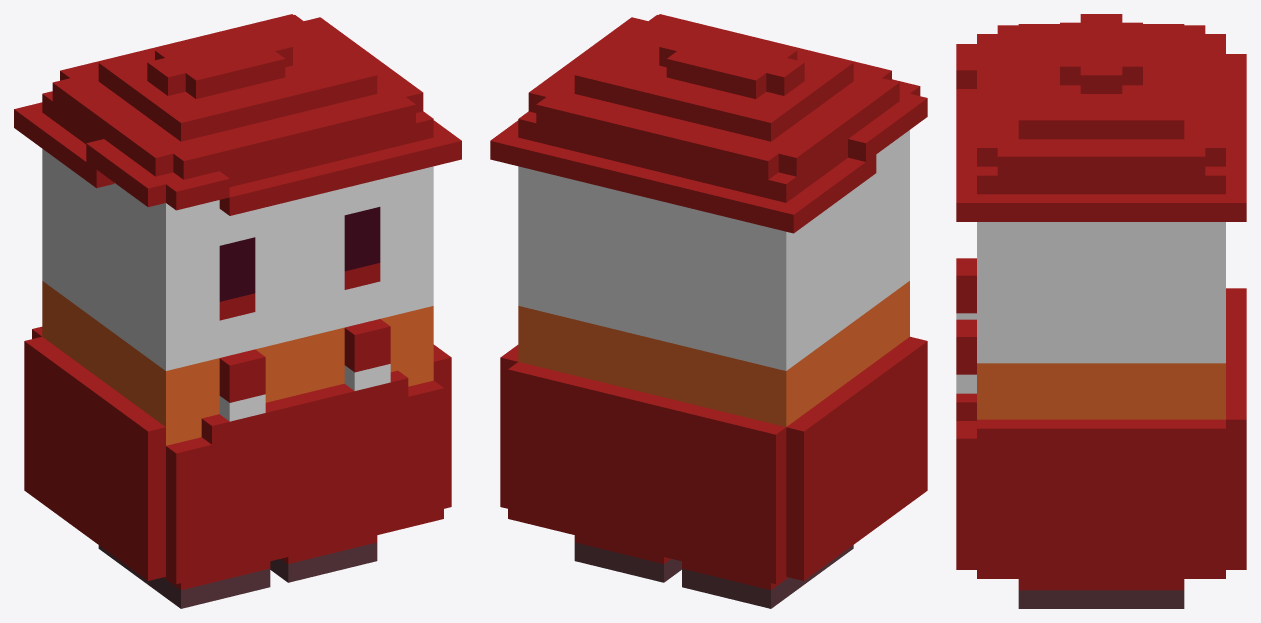
The model's file is p4_dizzy.gltf.
The picture shows the model from 3 angles, left to right: view 1: azimuth 30°, elevation 25°; view 2: azimuth 150°, elevation 25°; view 3: azimuth 270°, elevation 25°; orthographic projection.
Visible parts, largest first — view 1: Yup2Zup.001; view 2: Yup2Zup.001; view 3: Yup2Zup.001.
Boxes of the visible parts, box(x1,y1,x2,y2) form: Yup2Zup.001: box(14, 14, 461, 608); Yup2Zup.001: box(490, 14, 927, 608); Yup2Zup.001: box(956, 14, 1246, 608).
Bounding box in the file's own units: 1.7 × 2.7 × 1.4.
1 material, 1 textured.
